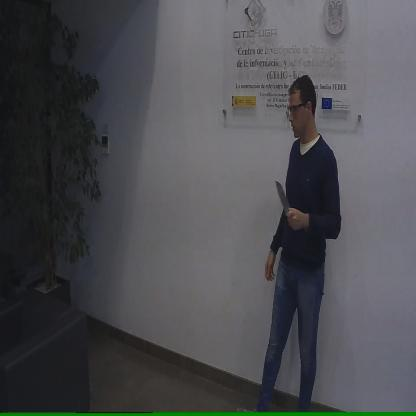knife: (274, 177, 296, 230)
